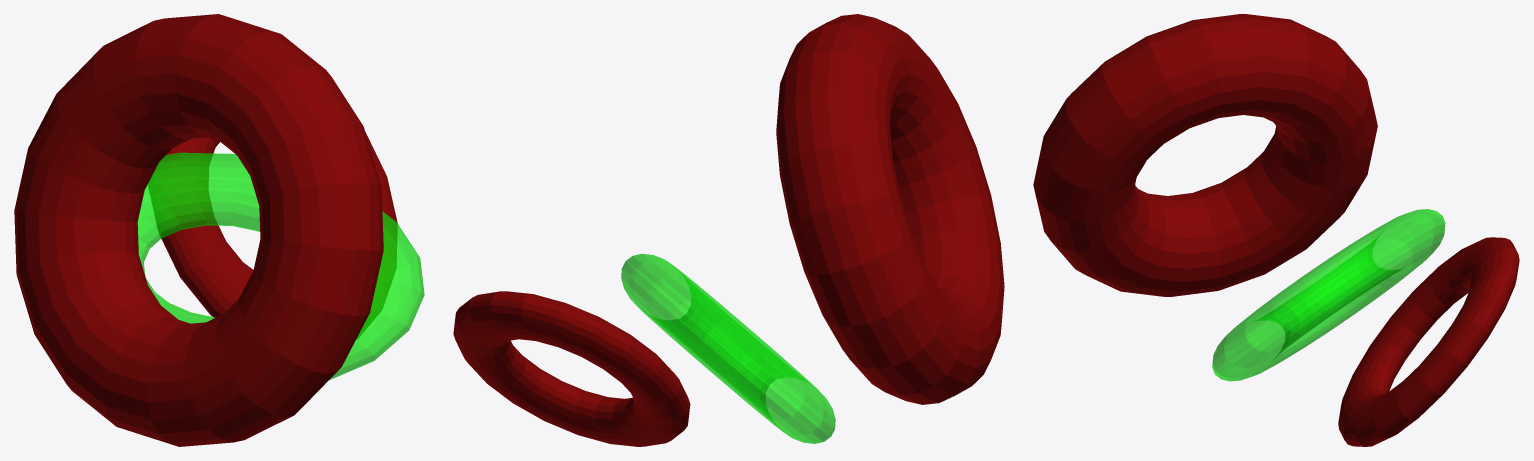
Rendered from effect_blinn_transparent_default.dae.
3 views of the same model, side by side, from view 1: azimuth 30°, elevation 25°; view 2: azimuth 150°, elevation 25°; view 3: azimuth 270°, elevation 25° (orthographic). The views are drawn at different scales.
Parts seen in each view (by area): view 1: pTorus3, pTorus1, pTorus2; view 2: pTorus3, pTorus2, pTorus1; view 3: pTorus3, pTorus2, pTorus1.
Boxes of the visible parts, x1=… form: pTorus3: x1=14, y1=14, x2=383, y2=446; pTorus1: x1=137, y1=152, x2=424, y2=380; pTorus2: x1=148, y1=132, x2=397, y2=339; pTorus3: x1=776, y1=14, x2=1004, y2=404; pTorus2: x1=453, y1=291, x2=690, y2=446; pTorus1: x1=621, y1=253, x2=835, y2=443; pTorus3: x1=1033, y1=14, x2=1377, y2=296; pTorus2: x1=1338, y1=237, x2=1519, y2=446; pTorus1: x1=1212, y1=209, x2=1445, y2=381.
Size of the model in its own units: 308 by 283 by 357.
